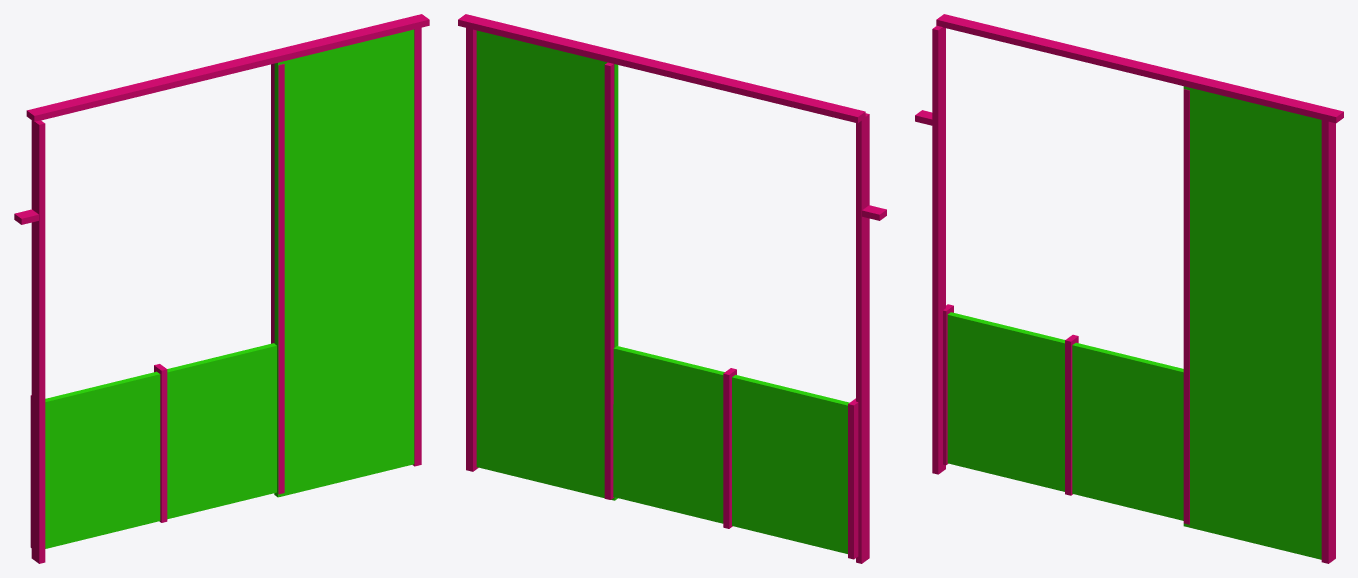
File: House_Wood_Debris_03.fbx
3 renders of one model, left to right at view 1: azimuth 30°, elevation 25°; view 2: azimuth 150°, elevation 25°; view 3: azimuth 330°, elevation 25°, orthographic.
Visible parts, largest first — view 1: House_Wood_Debris_03; view 2: House_Wood_Debris_03; view 3: House_Wood_Debris_03.
Boxes of the visible parts, bbox=[...] form: House_Wood_Debris_03: bbox=[14, 14, 429, 563]; House_Wood_Debris_03: bbox=[458, 14, 886, 563]; House_Wood_Debris_03: bbox=[915, 14, 1343, 563].
Bounding box in the file's own units: 295 × 304 × 14.9.
